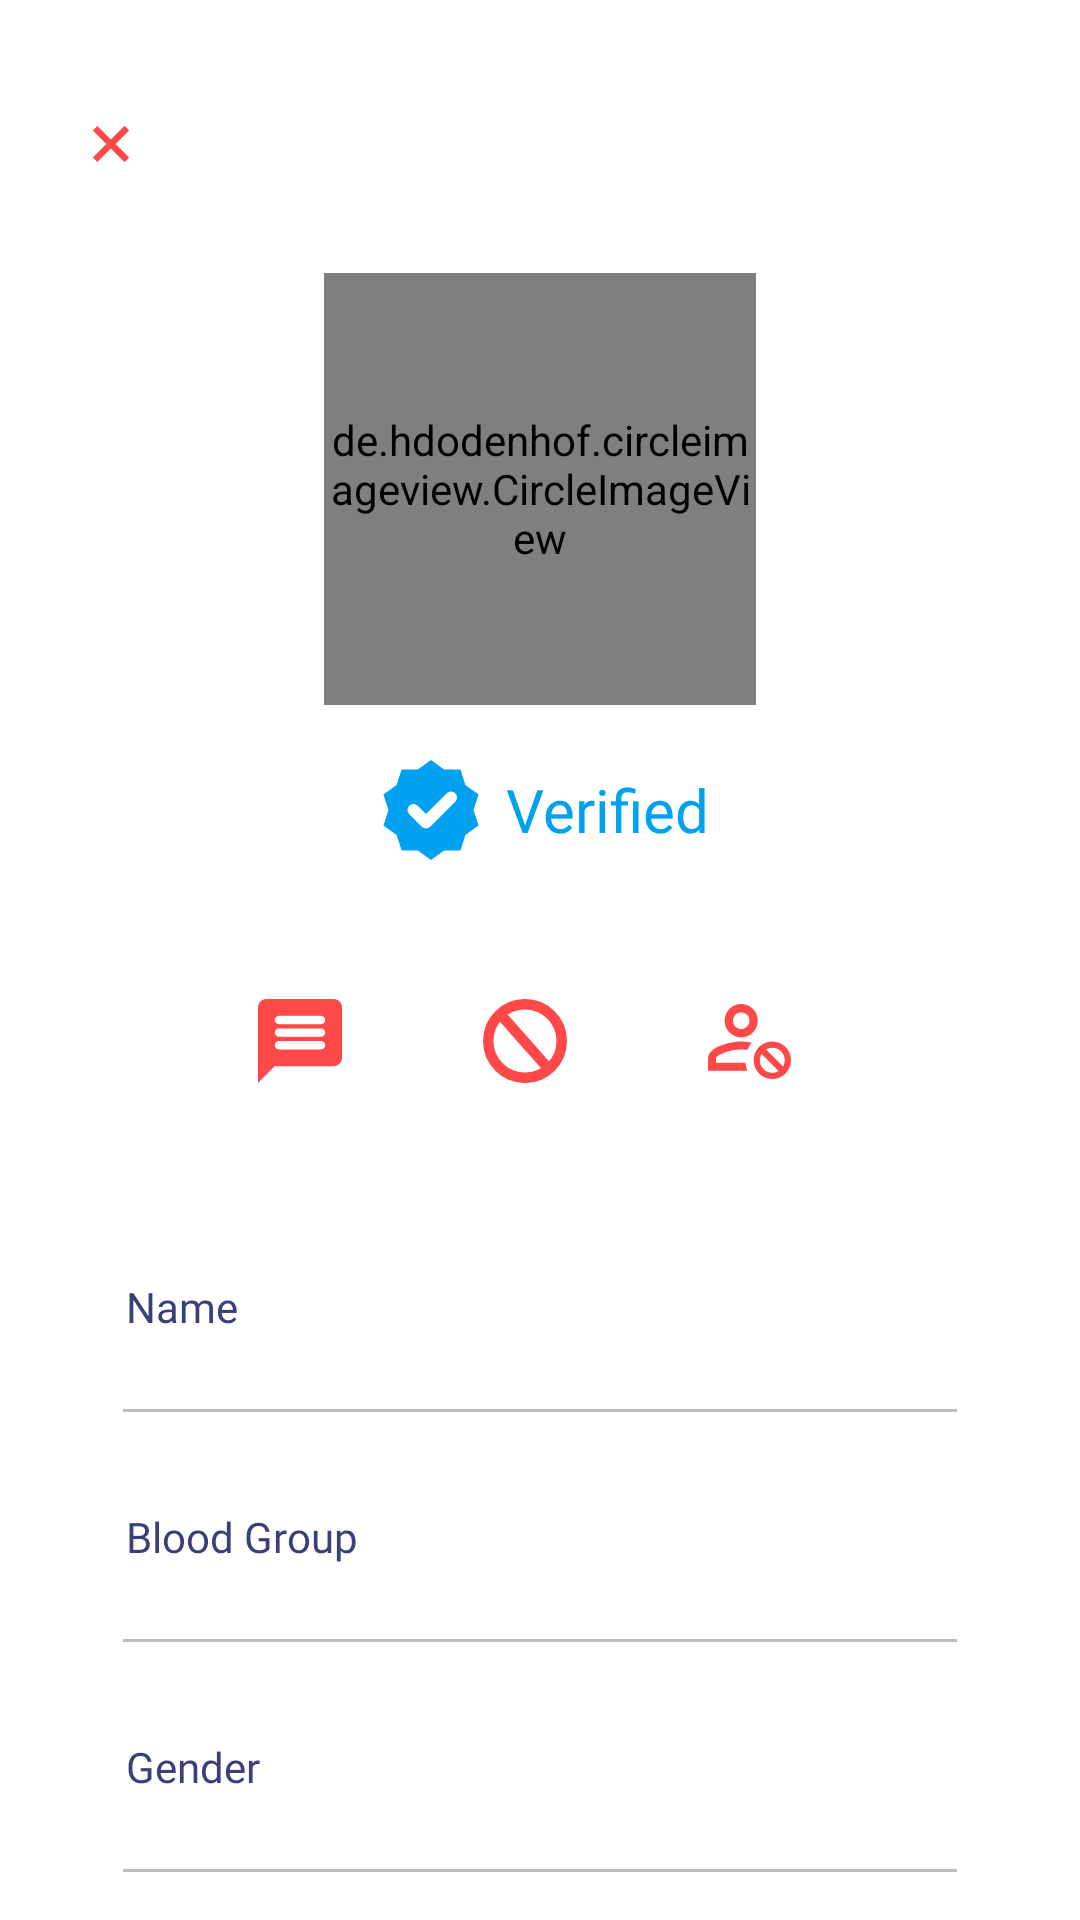

Named icons in this screenshot (1080*1920) and their bounding boxes, {"left": x1, "top": y1, "right": x2, "bottom": y2}:
block: {"left": 483, "top": 999, "right": 567, "bottom": 1083}
cancel: {"left": 93, "top": 126, "right": 129, "bottom": 162}
directmessage: {"left": 258, "top": 999, "right": 342, "bottom": 1083}
success: {"left": 383, "top": 760, "right": 479, "bottom": 860}
